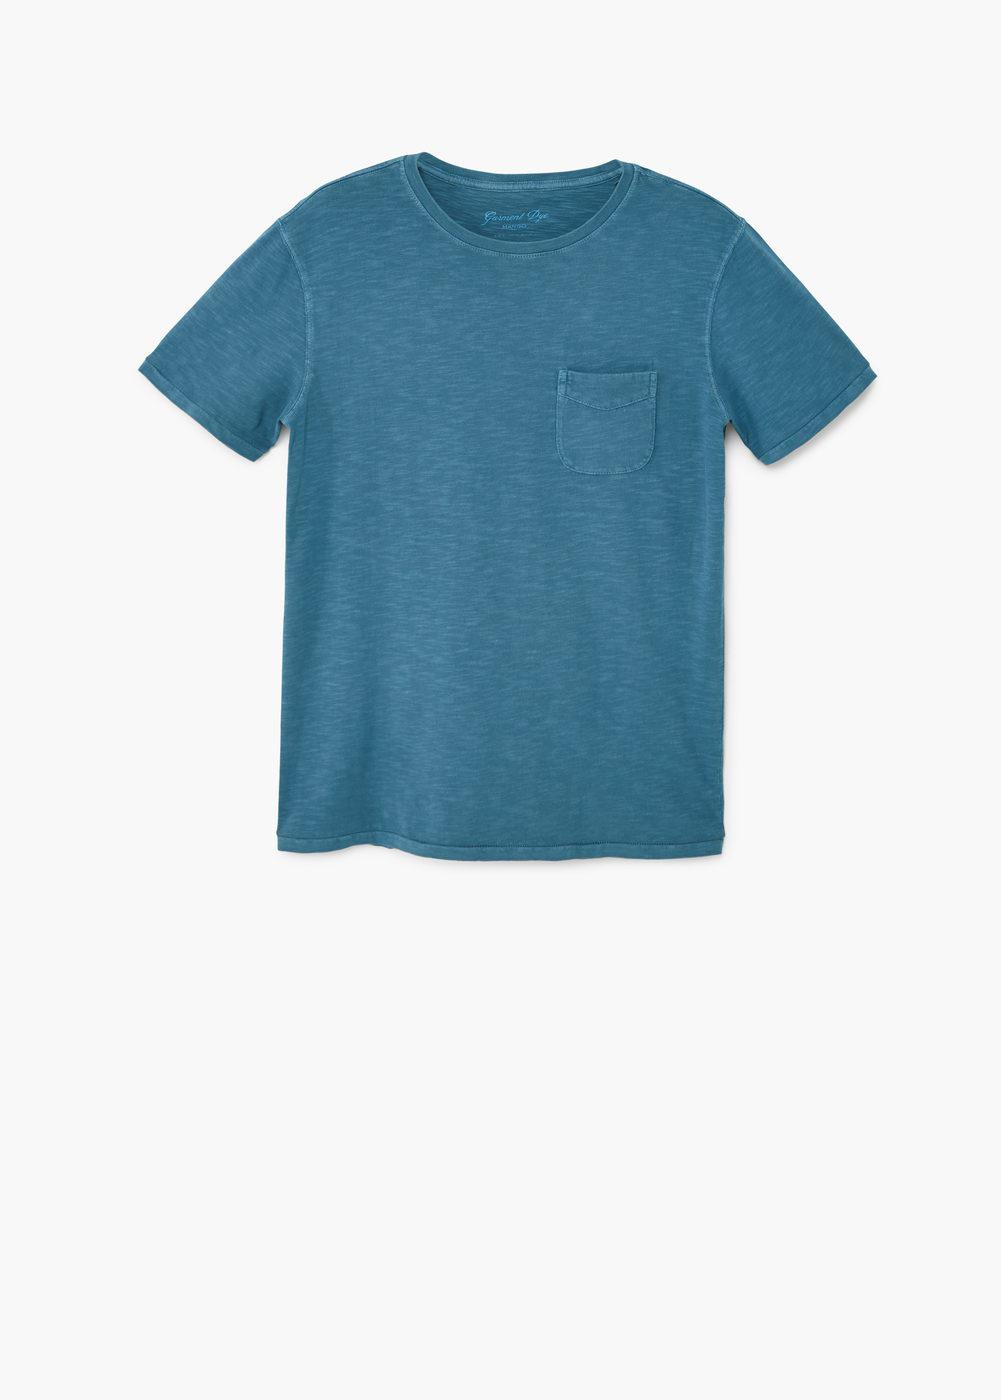teeshirt: (127, 101, 882, 967)
